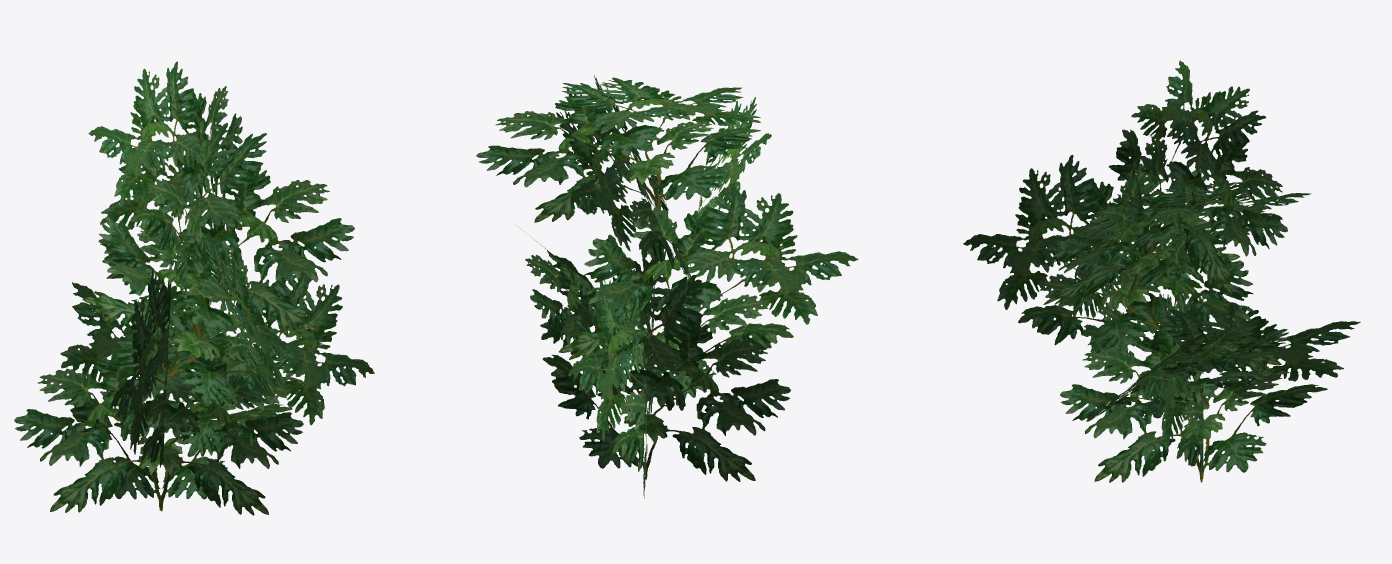
The model's file is obj__trops2.obj.
3 renders of one model, left to right at view 1: azimuth 30°, elevation 25°; view 2: azimuth 150°, elevation 25°; view 3: azimuth 270°, elevation 25°, orthographic. The views are drawn at different scales.
Parts seen in each view (by area): view 1: trops2.tga; view 2: trops2.tga; view 3: trops2.tga.
Boxes of the visible parts, x1,y1,x2,y2 form: trops2.tga: (14, 61, 374, 515); trops2.tga: (476, 75, 858, 498); trops2.tga: (963, 60, 1360, 482).
Size of the model in its own units: 62.02 by 72.6 by 69.15.
1 material, 1 textured.
